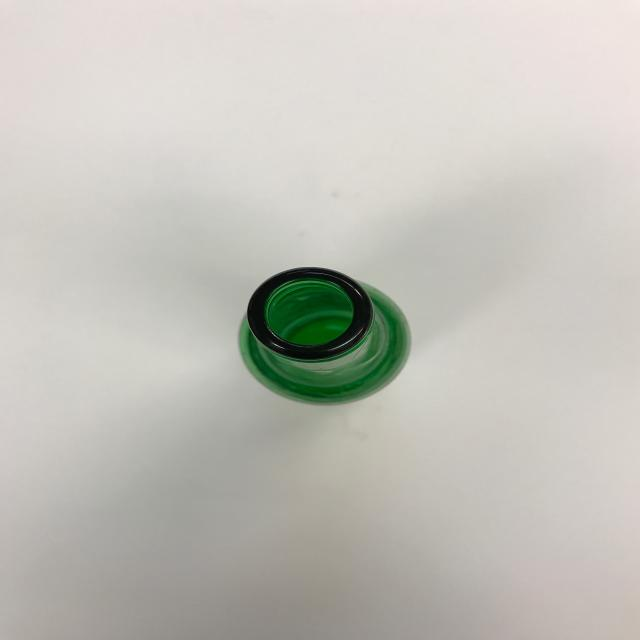glass: (236, 265, 412, 406)
